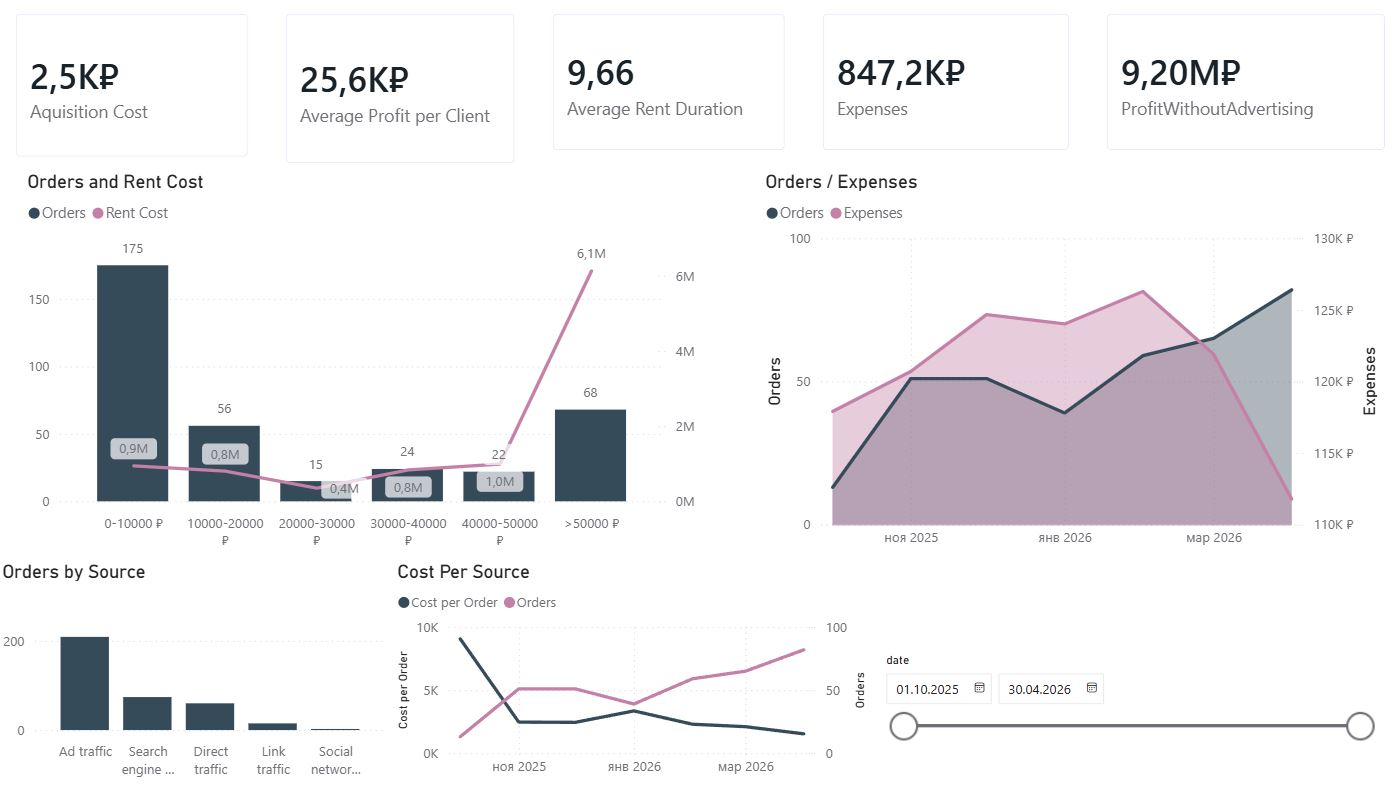

What the dashboard file says about the page in this screenshot:
{"tool":"powerbi","page":{"name":"General Analysis","canvas":[1280,720],"ordinal":0},"visuals":[{"type":"slicer","fields":{"Values":["public date_con.date"]},"box":[795.2,592.6,464.6,128],"z":0},{"type":"lineChart","title":"Orders / Expenses","fields":{"Y":["Sum(CRM.Orders)"],"Category":["public date_con.month_start.Variation.Date Hierarchy.Year","public date_con.month_start.Variation.Date Hierarchy.Month","public date_con.month_start.Variation.Date Hierarchy.Day"],"Y2":["CRM.Expenses"]},"box":[693.4,159.2,566.4,352.8],"z":1000},{"type":"cardVisual","fields":{"Data":["CRM.Total_Cost"]},"box":[0,0,245.6,164.4],"z":2000},{"type":"cardVisual","fields":{"Data":["CRM.Average Profit per Client"]},"box":[245.6,0,242.2,170],"z":3000},{"type":"cardVisual","fields":{"Data":["CRM.Expenses"]},"box":[733.3,0,258.9,158.9],"z":4000},{"type":"cardVisual","fields":{"Data":["CRM.ProfitWithoutAdvertising"]},"box":[992.2,0,287.8,158.9],"z":5000},{"type":"cardVisual","fields":{"Data":["CRM.Average rent duration"]},"box":[487.8,0,245.6,158.9],"z":6000},{"type":"lineClusteredColumnComboChart","title":"Orders and Rent Cost","fields":{"Category":["CRM.RentalRange"],"Y":["Sum(CRM.Orders)"],"Y2":["Sum(CRM.Cost)"]},"box":[22.6,159.1,617.4,352.5],"z":7000},{"type":"lineChart","title":"Cost Per Source ","fields":{"Y":["CRM.CostPerSource"],"Category":["public date_con.month_start.Variation.Date Hierarchy.Year","public date_con.month_start.Variation.Date Hierarchy.Month","public date_con.month_start.Variation.Date Hierarchy.Day"],"Y2":["public fact_metrica_goals.Conversions relative"]},"box":[358.8,514,436.4,205.6],"z":8000},{"type":"lineStackedColumnComboChart","title":"Orders by Source","fields":{"Category":["public fact_metrica_goals.traffic_source"],"Y":["public fact_metrica_goals.Conversions relative"]},"box":[0,514,358.8,205.6],"z":9000}]}

Visuals, with their boxes in screenshot pixels (x1, y1, x2, y2), scaled from the page's 1280x720 canvas onto the 1400x787 screenshot:
slicer - public date_con.date: <bbox>870, 648, 1378, 786</bbox>
"Orders / Expenses" lineChart: <bbox>758, 174, 1378, 560</bbox>
cardVisual - CRM.Total_Cost: <bbox>0, 0, 269, 180</bbox>
cardVisual - CRM.Average Profit per Client: <bbox>269, 0, 534, 186</bbox>
cardVisual - CRM.Expenses: <bbox>802, 0, 1085, 174</bbox>
cardVisual - CRM.ProfitWithoutAdvertising: <bbox>1085, 0, 1399, 174</bbox>
cardVisual - CRM.Average rent duration: <bbox>534, 0, 802, 174</bbox>
"Orders and Rent Cost" lineClusteredColumnComboChart: <bbox>25, 174, 700, 559</bbox>
"Cost Per Source " lineChart: <bbox>392, 562, 870, 786</bbox>
"Orders by Source" lineStackedColumnComboChart: <bbox>0, 562, 392, 786</bbox>
